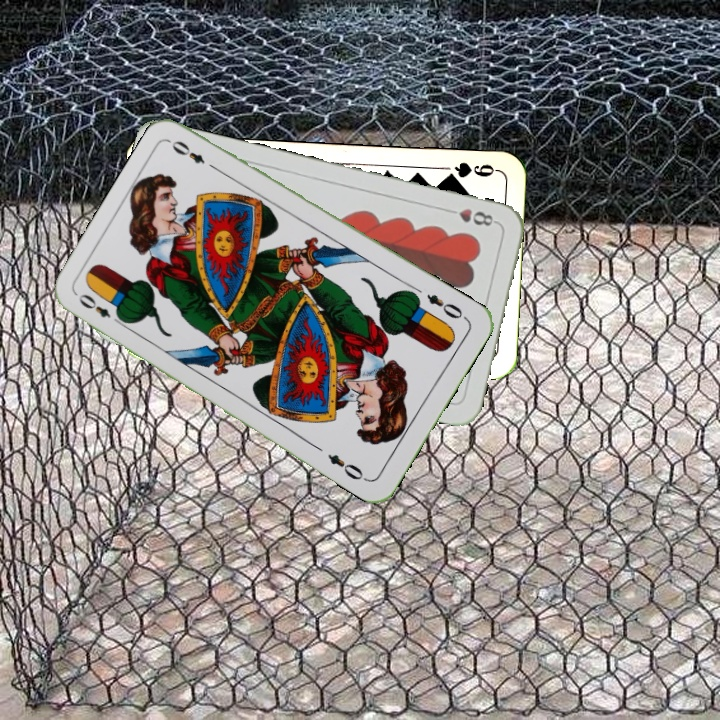EO: (74, 289, 127, 329), (422, 290, 470, 323)
G9: (441, 158, 500, 183)
H8: (441, 204, 500, 229)
